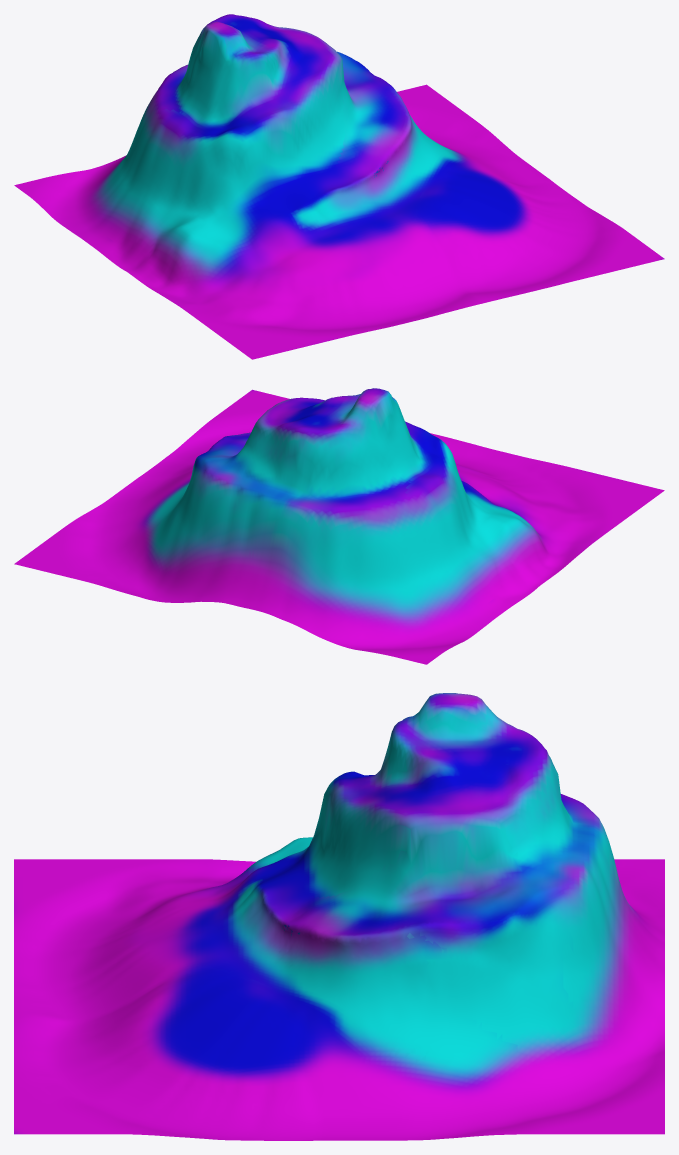
Rendered from Terrain.fbx.
3 views of the same model, one above another, from view 1: azimuth 30°, elevation 25°; view 2: azimuth 150°, elevation 25°; view 3: azimuth 270°, elevation 25° (orthographic). The views are drawn at different scales.
Parts seen in each view (by area): view 1: Plane.001; view 2: Plane.001; view 3: Plane.001.
Part boxes in pixels (<box>): Plane.001: <box>14,14,664,359</box>; Plane.001: <box>14,388,664,664</box>; Plane.001: <box>14,693,664,1140</box>.
Bounding box in the file's own units: 20441 × 8822 × 20441.
